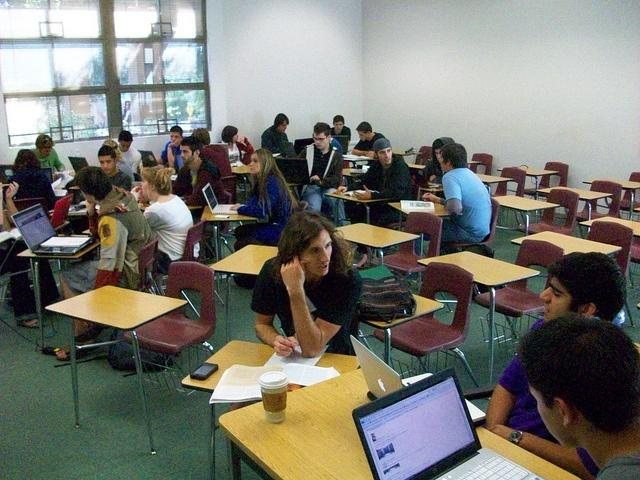Kursi: (373, 262, 474, 356), (121, 260, 217, 355), (476, 237, 563, 318), (380, 210, 442, 274)
